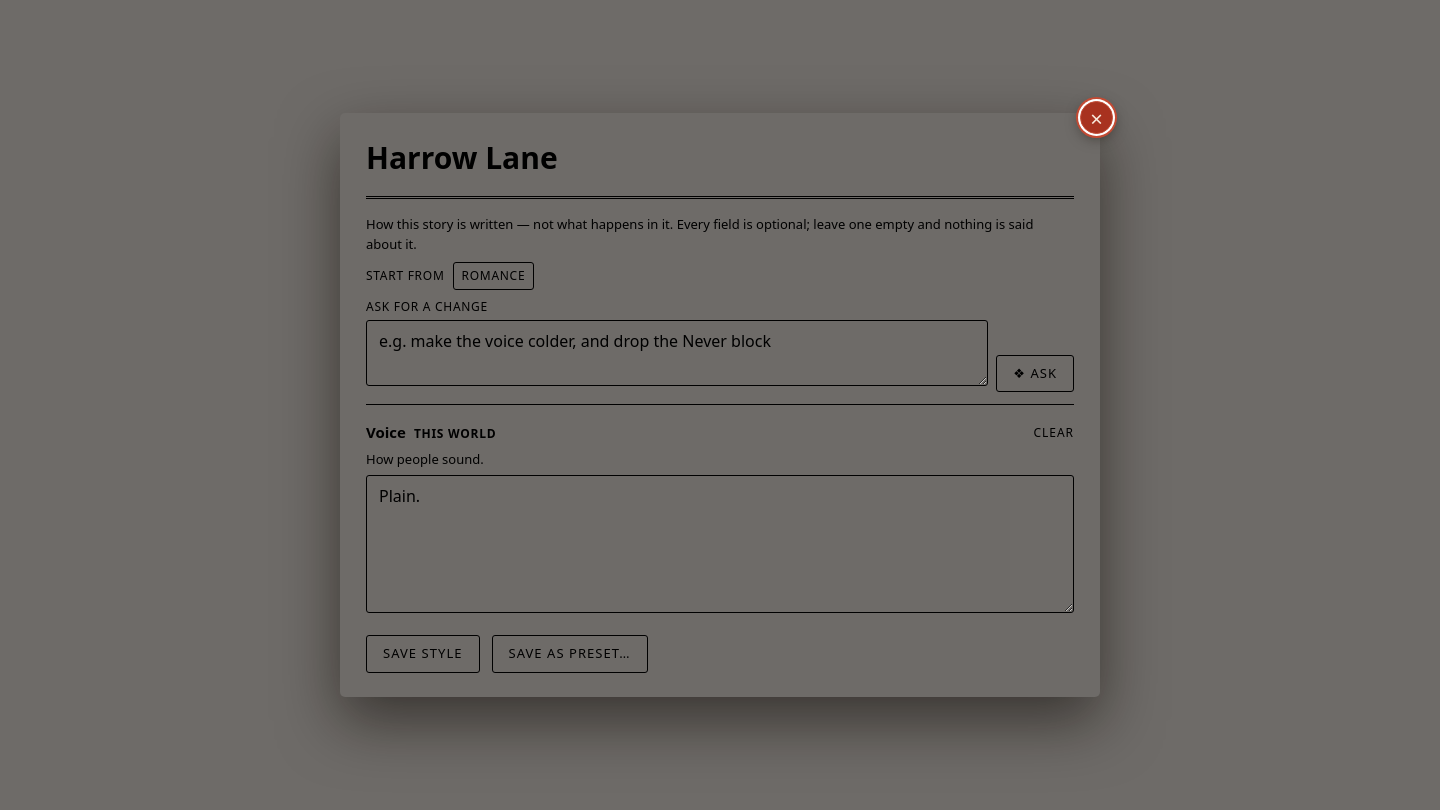
Test case: StyleGuideModal › asks the model to revise and shows the result in the fields
Expected: the text box named "voice — style" is shown, [366, 475, 1074, 613]
Type "colder" into the text box named "ask the model" at (677, 353), box [366, 320, 988, 386]
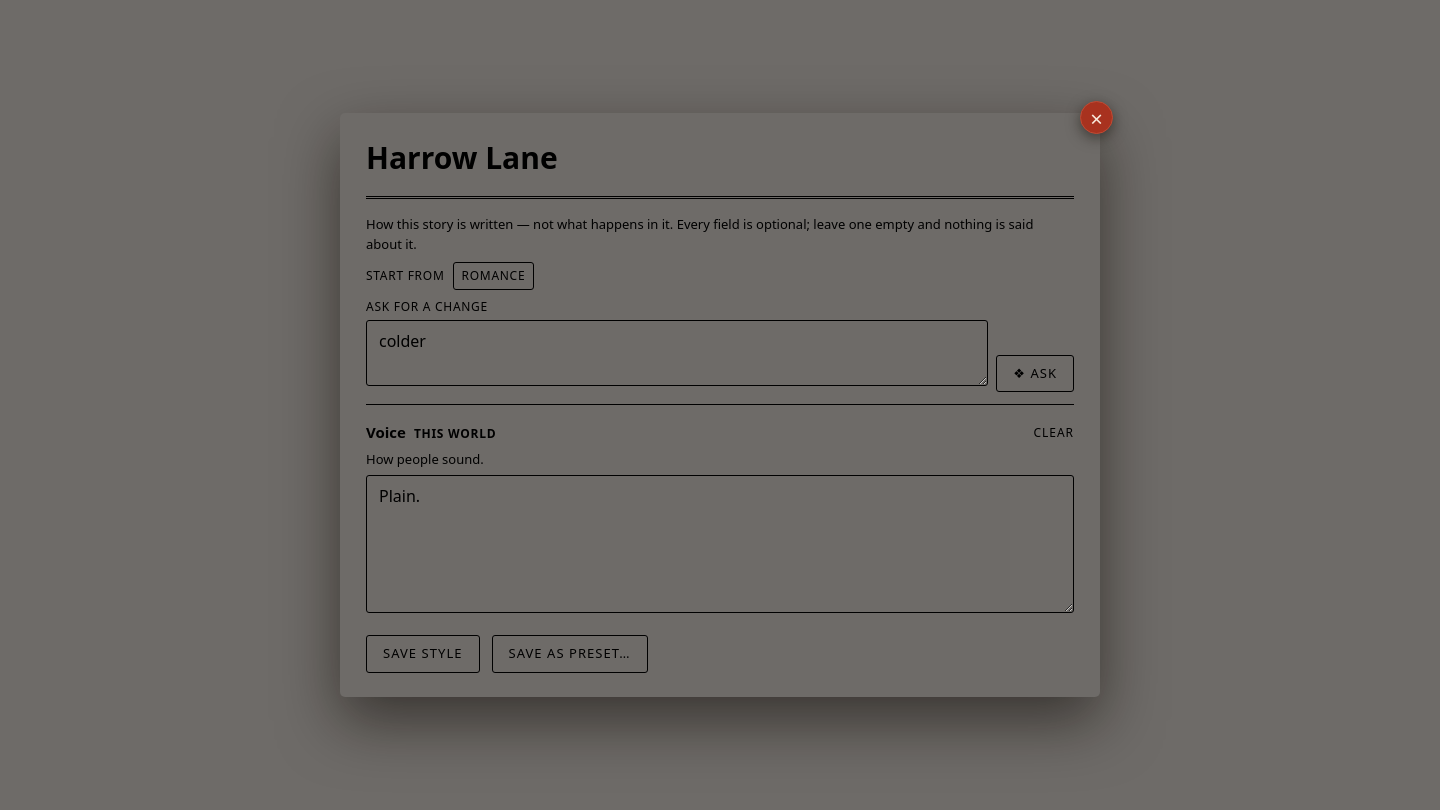
Click the button "❖ Ask" at (1035, 374), box [996, 355, 1074, 392]
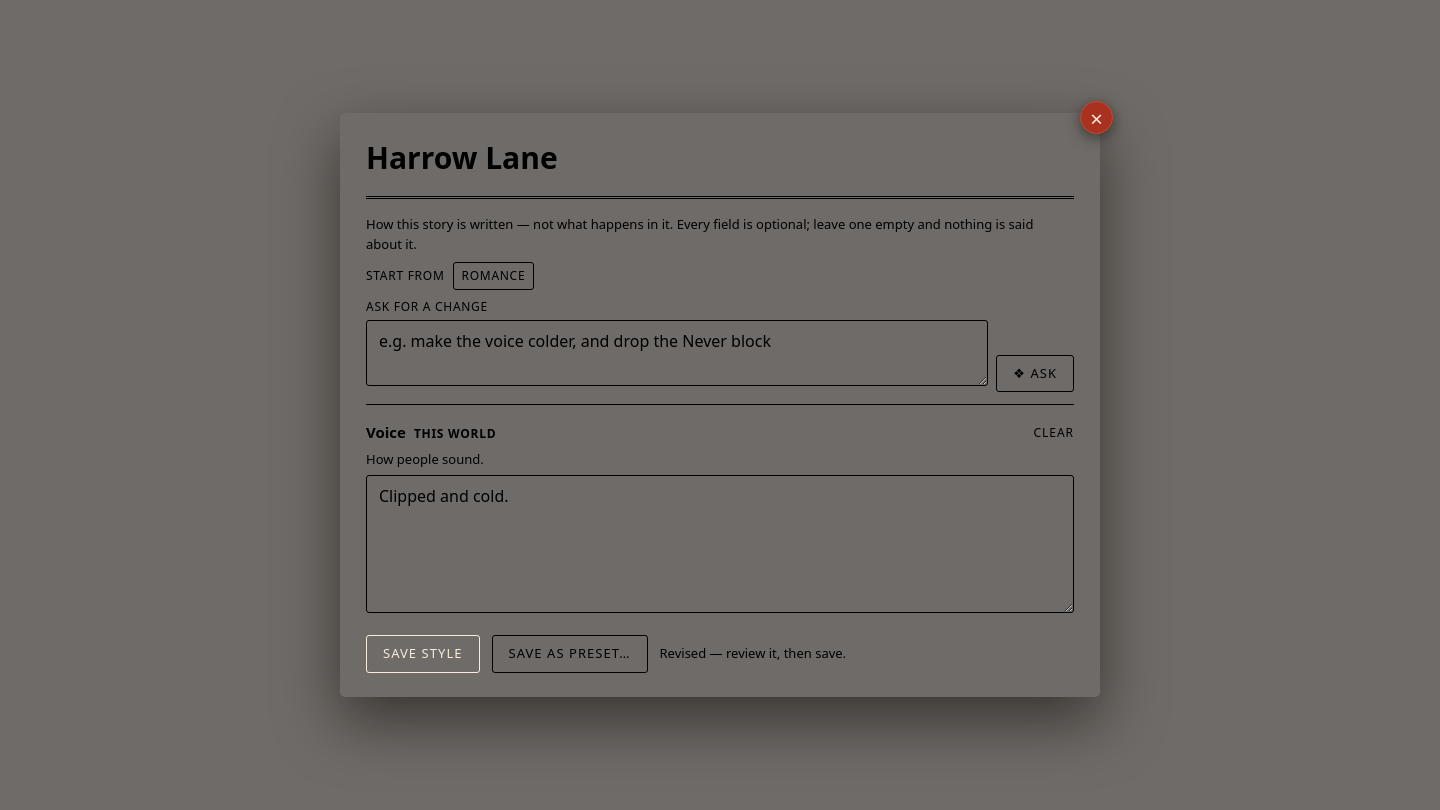
Result: the text box showing "Clipped and cold." is shown at [366, 475, 1074, 613]
